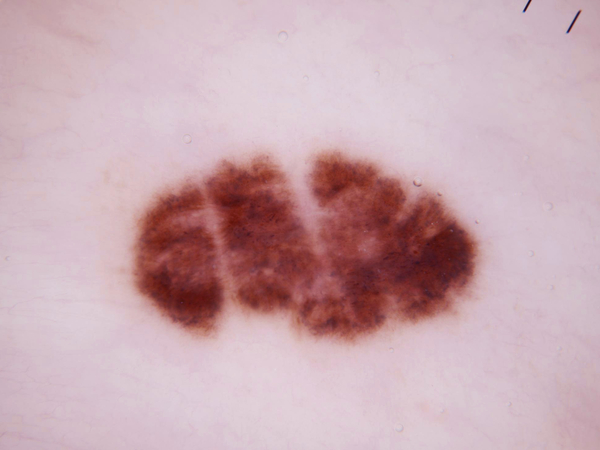Detected Lesion: (125, 145, 484, 345)
